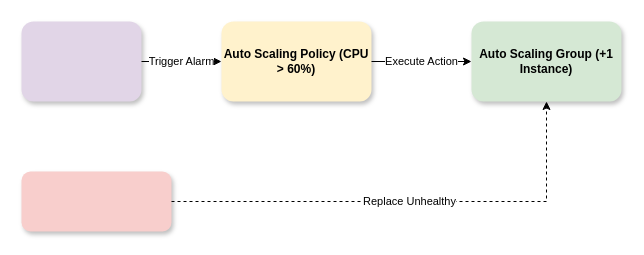
Image size: 644x255. Some labels were removed from this diagram. Each missing label, with the centre of its shape:
"CloudWatch Monitoring" goes at point (82, 62).
"Health Check (/actuator/health)" goes at point (97, 202).
